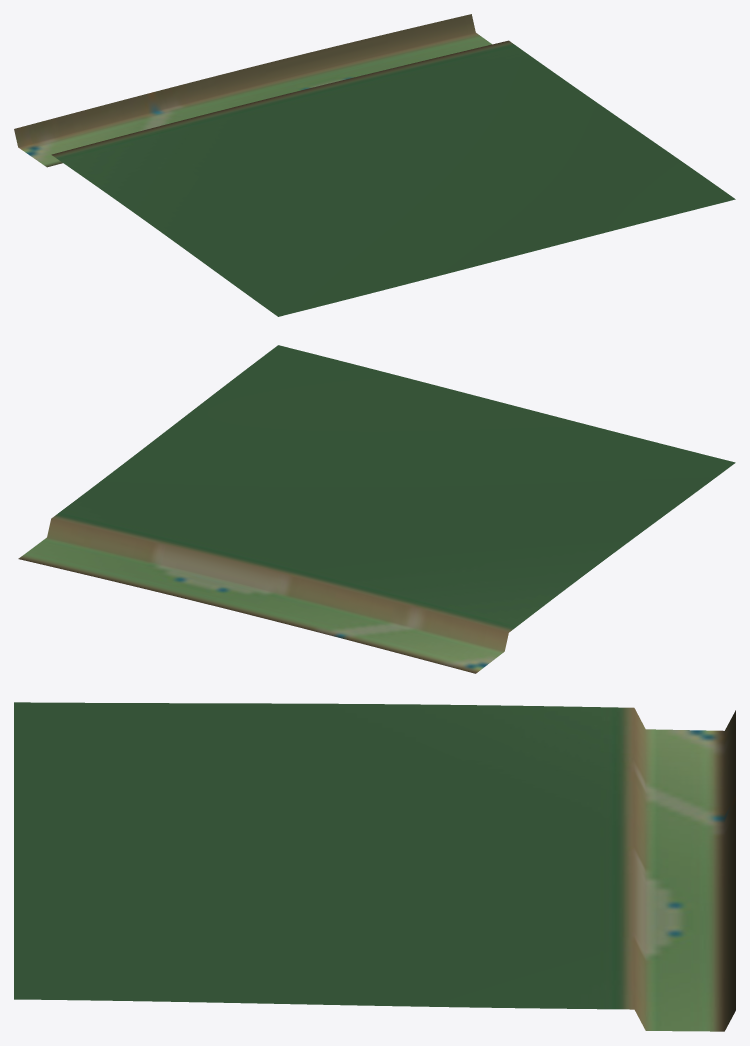
File: terrain_T_E05_S02.glb
3 views of the same model, one above another, from view 1: azimuth 30°, elevation 25°; view 2: azimuth 150°, elevation 25°; view 3: azimuth 270°, elevation 25° (orthographic). The views are drawn at different scales.
Visible parts, largest first — view 1: Terrain_T_E05_S02; view 2: Terrain_T_E05_S02; view 3: Terrain_T_E05_S02.
Part boxes in pixels (x1,y1,x2,y2): Terrain_T_E05_S02: (14, 14, 735, 316); Terrain_T_E05_S02: (18, 345, 735, 673); Terrain_T_E05_S02: (14, 702, 735, 1031).
Size of the model in its own units: 2000 by 111 by 2000.
1 material, 1 textured.
